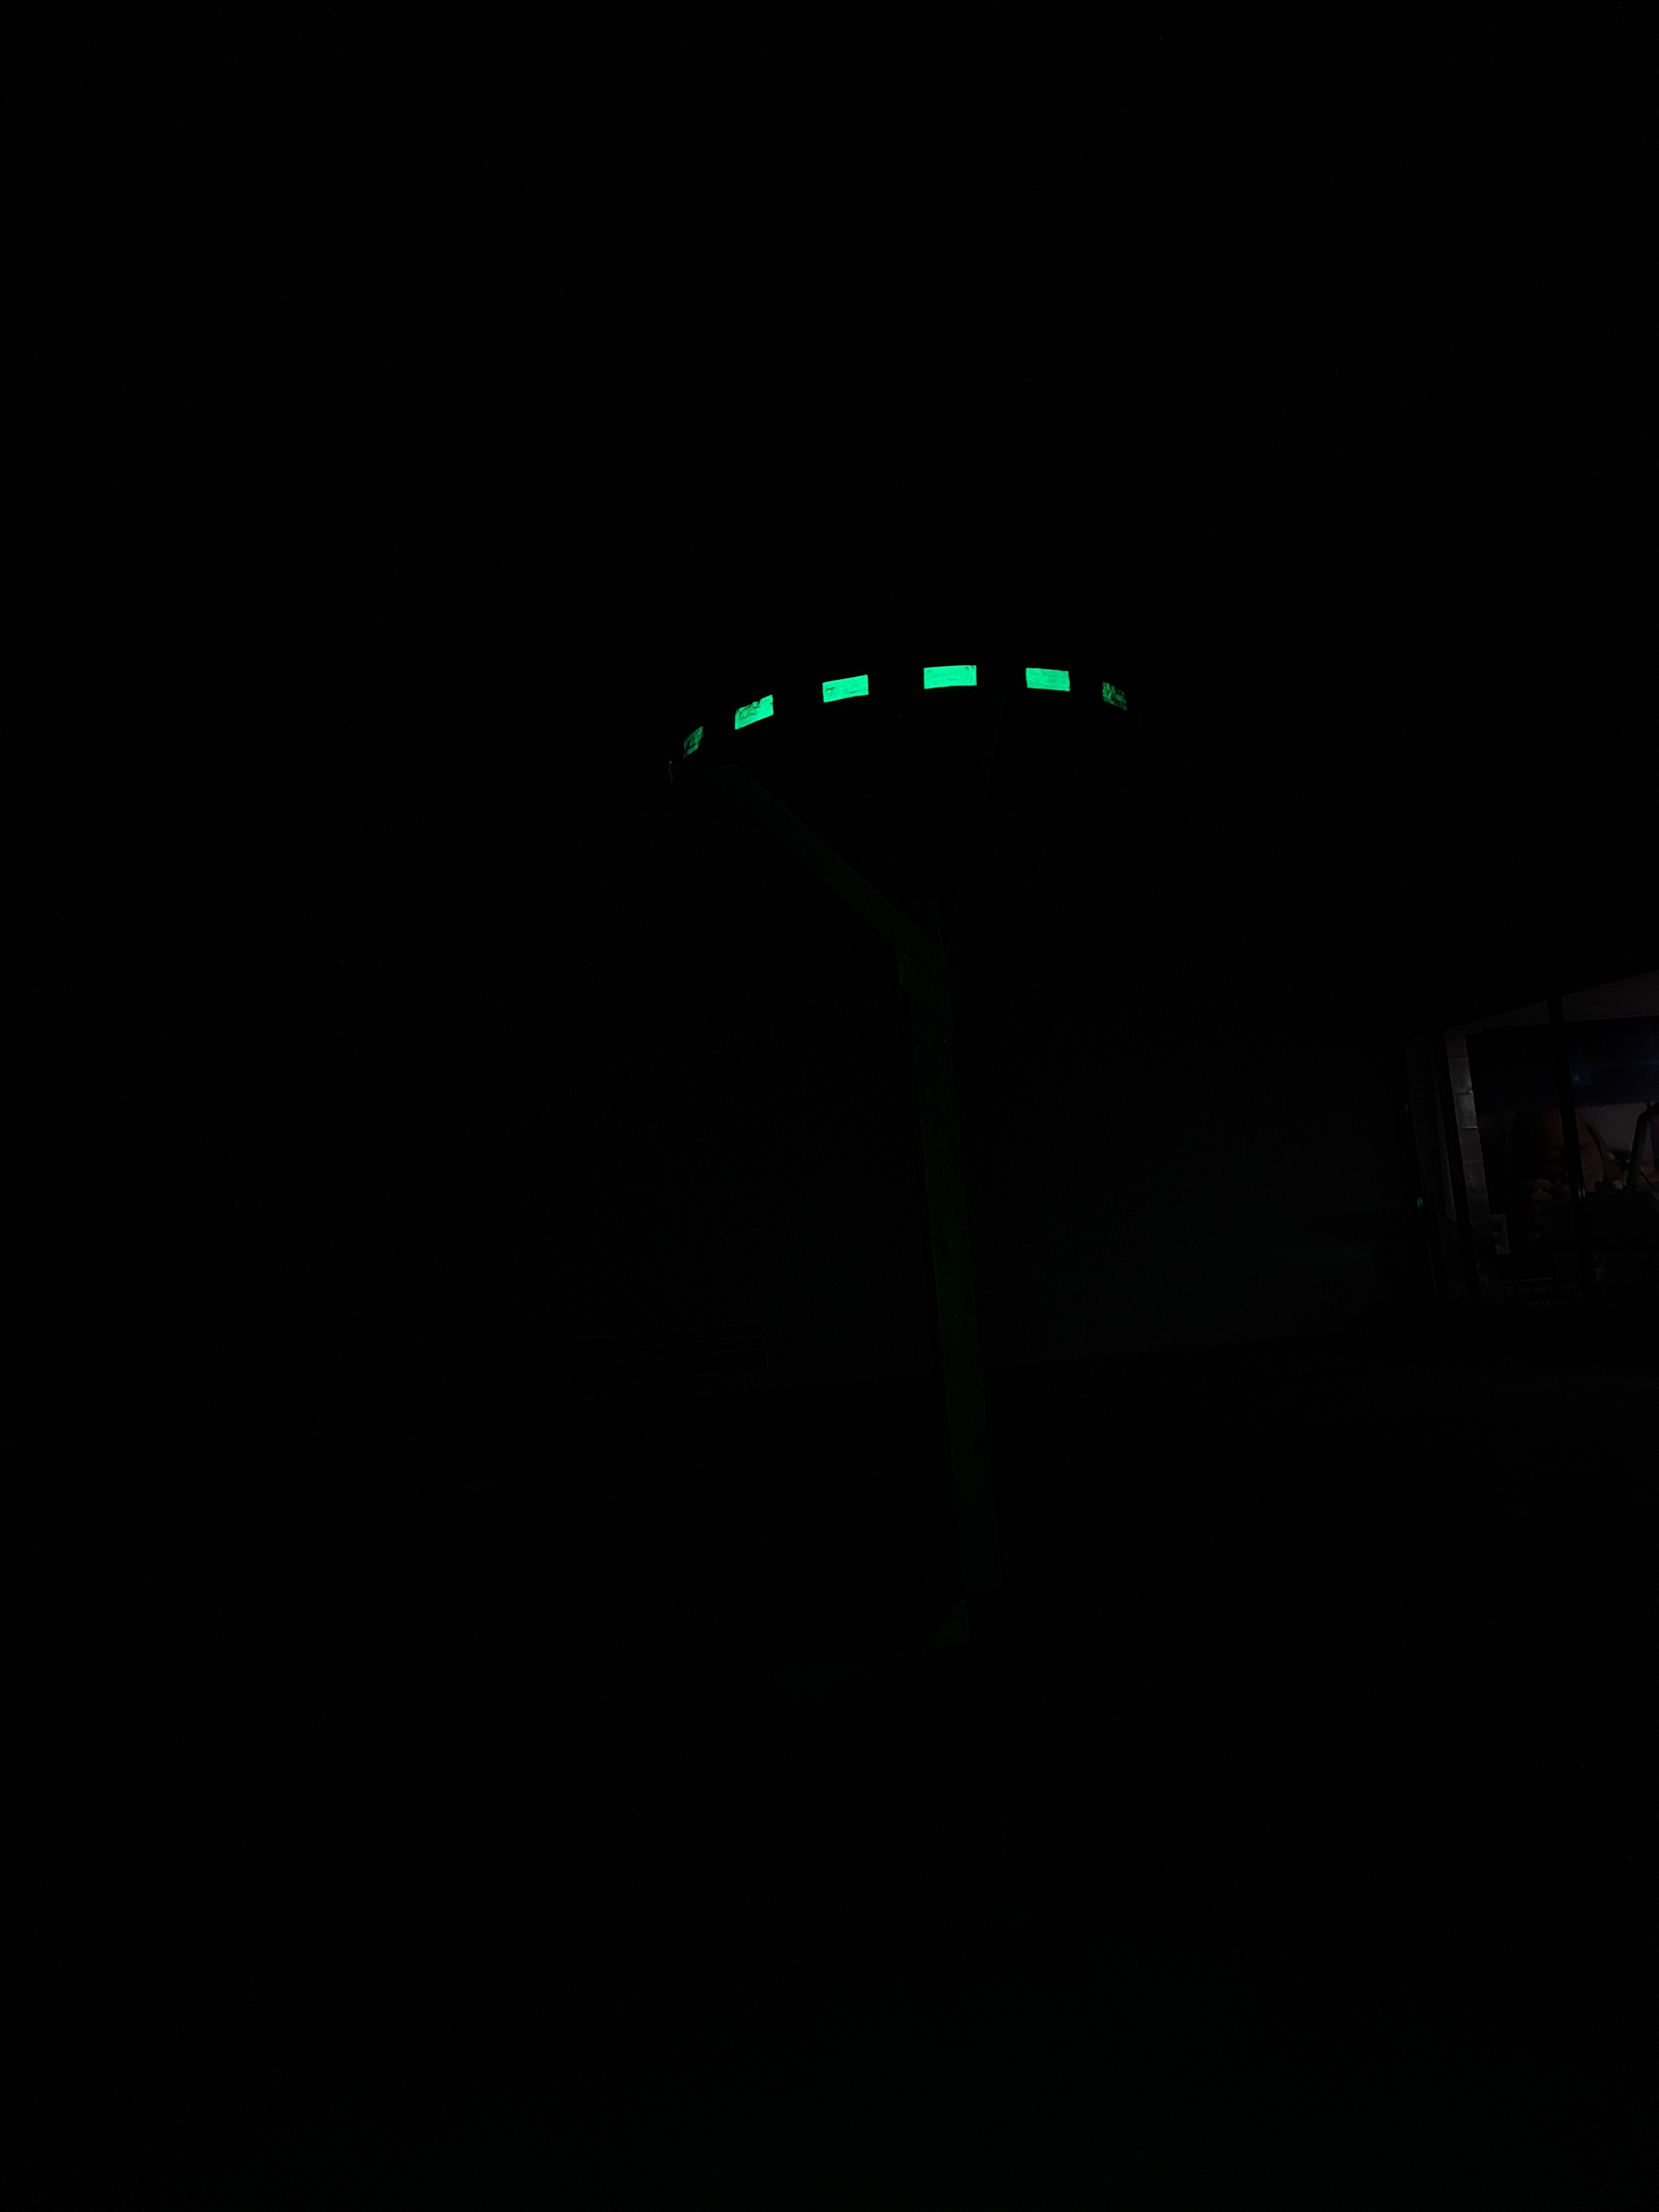hoop: (666, 636, 1164, 787)
